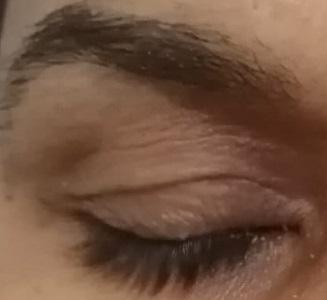close: (49, 130, 310, 300)
